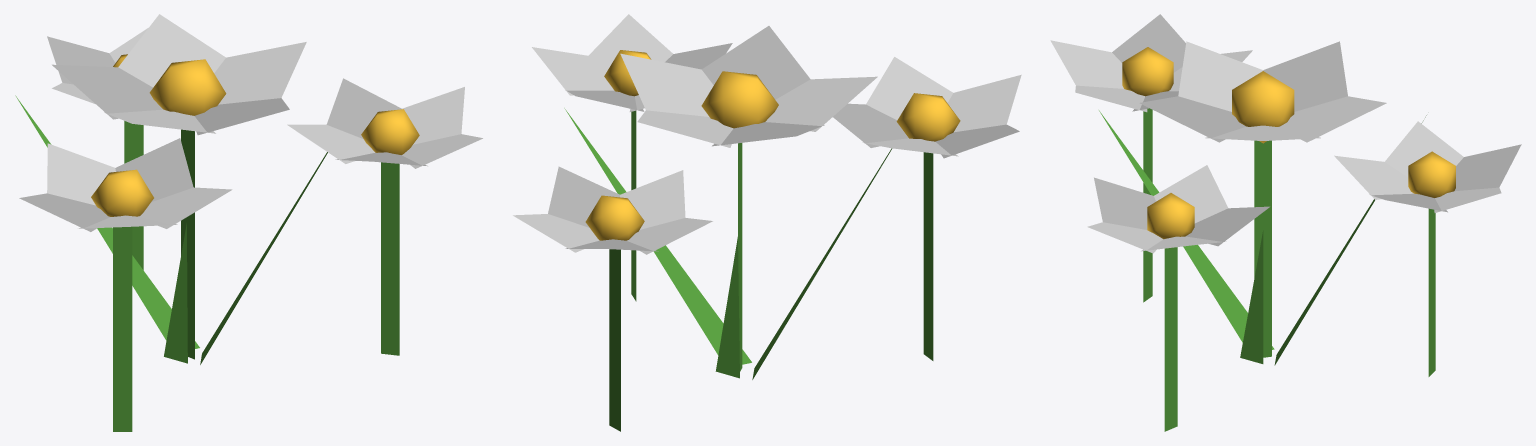
The model's file is FlowerClump.glb.
3 renders of one model, left to right at view 1: azimuth 30°, elevation 25°; view 2: azimuth 150°, elevation 25°; view 3: azimuth 270°, elevation 25°, orthographic. The views are drawn at different scales.
Visible parts, largest first — view 1: FlowerClump; view 2: FlowerClump; view 3: FlowerClump.
Part boxes in pixels (bbox=[...]): FlowerClump: bbox=[15, 14, 482, 431]; FlowerClump: bbox=[513, 14, 1021, 431]; FlowerClump: bbox=[1050, 14, 1521, 431].
Bounding box in the file's own units: 0.6648 × 0.4005 × 0.614.
